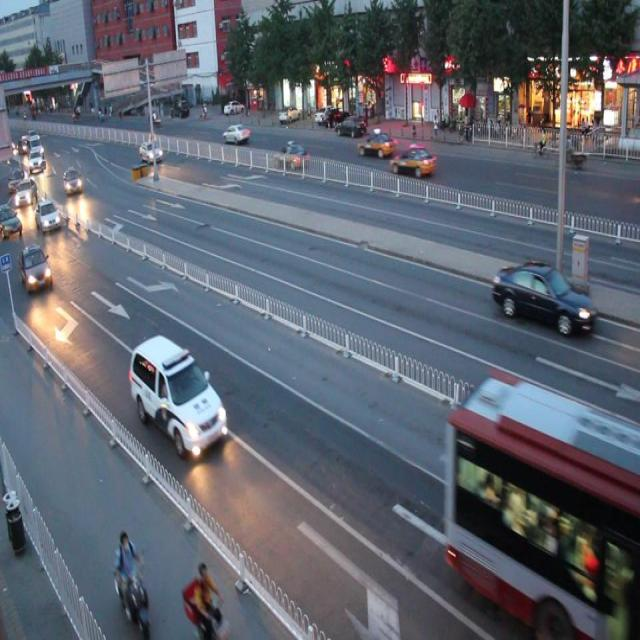car: (128, 334, 225, 453), (491, 258, 595, 340), (389, 144, 435, 178), (356, 129, 395, 157), (272, 140, 308, 168), (223, 121, 250, 143)
van: (444, 368, 640, 640)
